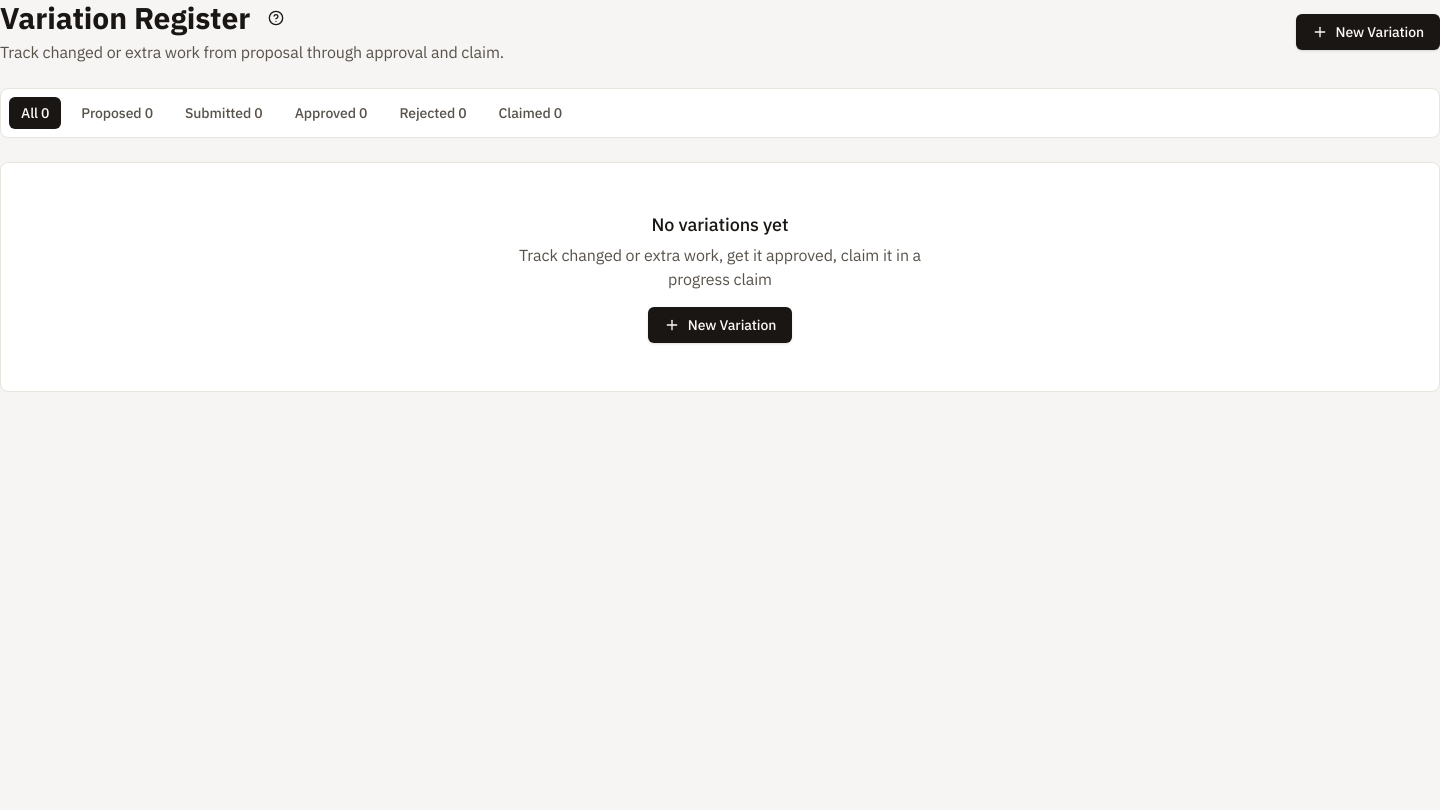
Test: VariationsPage › shows the empty-state teaching copy and opens the create modal
The image size is (1440, 810).
Expected: the heading "No variations yet" is shown, [652,213,788,236]
Expected: the text "Track changed or extra work, get it approved, claim it in a progress claim" is shown, [496,243,944,291]
# Header and empty-state CTA both say "New Variation" — either works.
Click the button "New Variation" in the row of "Variation Register" at [1368, 32], box [1296,14,1439,50]
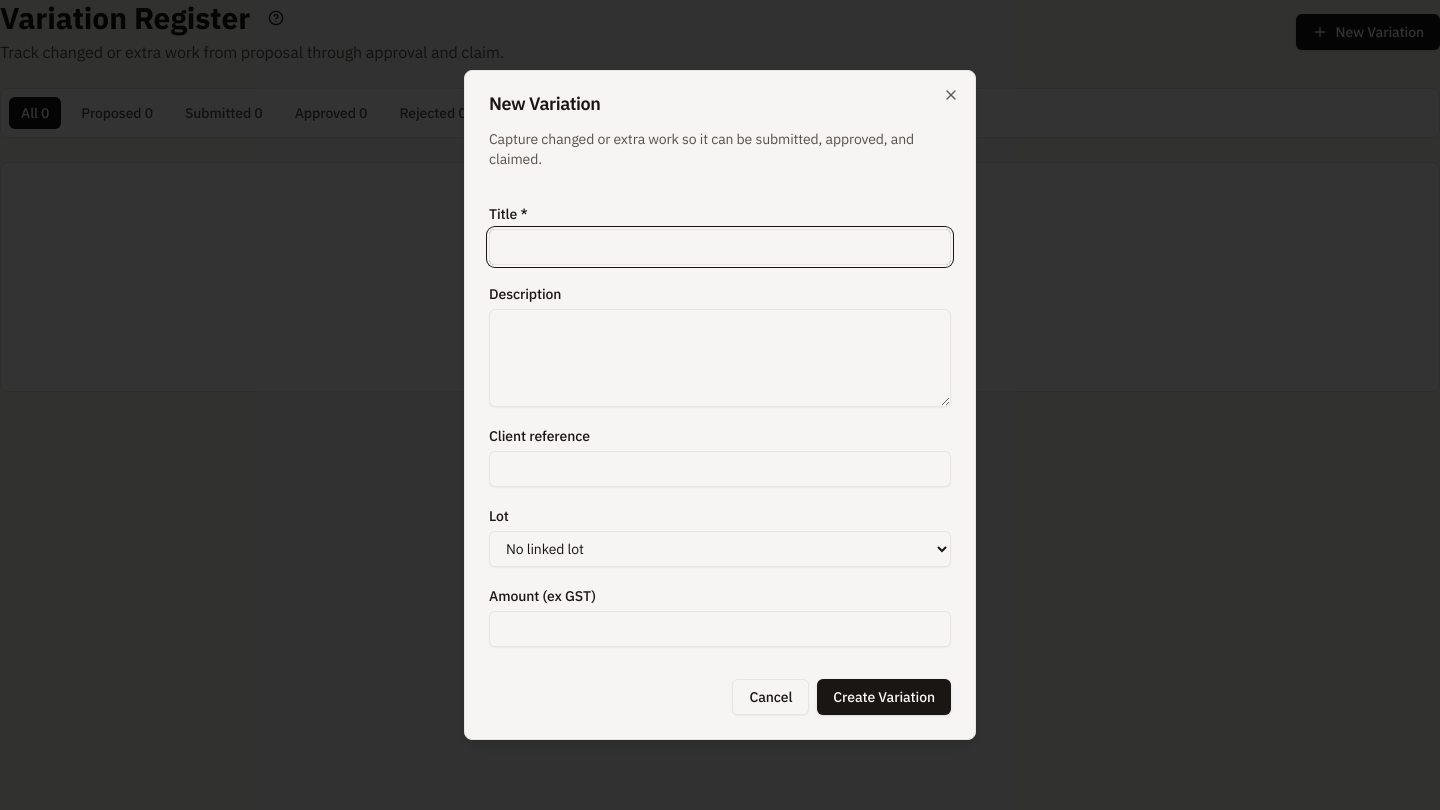
Expected: the dialog is shown, [464,70,976,740]
Expected: the heading "New Variation" is shown, [489,92,600,115]
